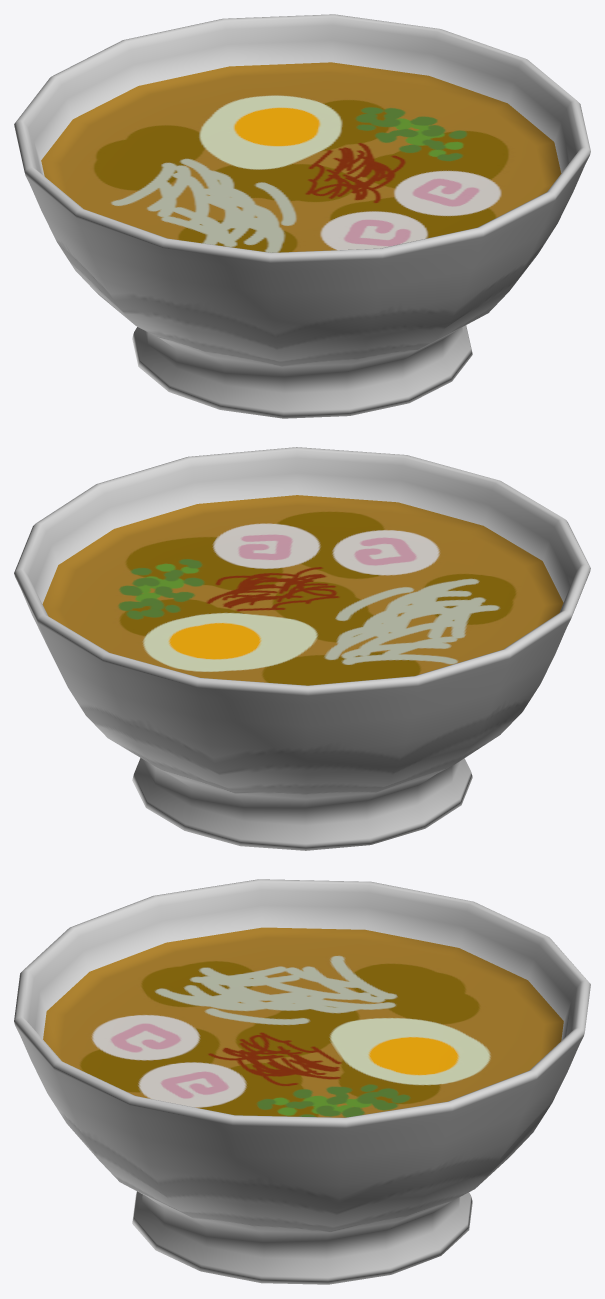
Rendered from Food_Ramen.fbx.
3 renders of one model, top to bottom at view 1: azimuth 30°, elevation 25°; view 2: azimuth 150°, elevation 25°; view 3: azimuth 270°, elevation 25°, orthographic.
Visible parts, largest first — view 1: Ramen_1; view 2: Ramen_1; view 3: Ramen_1.
Boxes of the visible parts, x1,y1,x2,y2 form: Ramen_1: (14,14,590,418); Ramen_1: (14,447,590,850); Ramen_1: (14,879,590,1284).
Bounding box in the file's own units: 44.8 × 18.51 × 44.8.
1 material, 1 textured.
